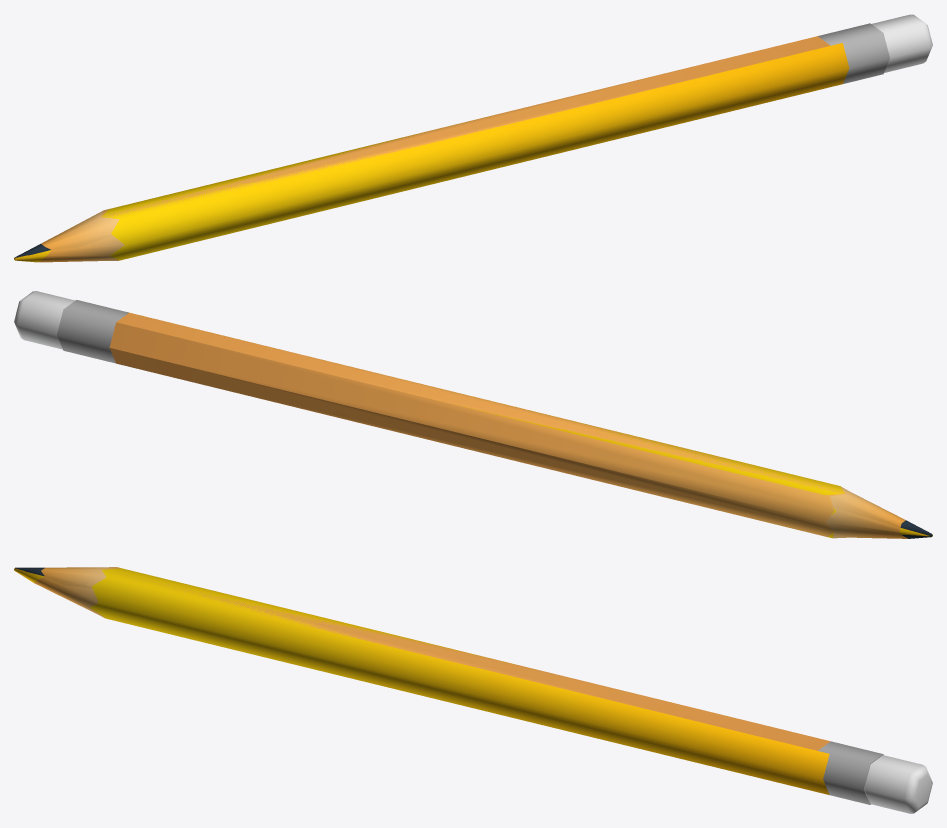
Rendered from Pencil.fbx.
3 renders of one model, top to bottom at view 1: azimuth 30°, elevation 25°; view 2: azimuth 150°, elevation 25°; view 3: azimuth 330°, elevation 25°, orthographic.
Visible parts, largest first — view 1: Pencil1, Pencil; view 2: Pencil, Pencil1; view 3: Pencil1, Pencil.
Boxes of the visible parts, bbox=[...] form: Pencil1: bbox=[14, 43, 849, 262]; Pencil: bbox=[14, 14, 932, 260]; Pencil: bbox=[14, 291, 932, 538]; Pencil1: bbox=[147, 318, 932, 538]; Pencil1: bbox=[14, 568, 829, 794]; Pencil: bbox=[15, 567, 932, 813].
Bounding box in the file's own units: 1047 × 45.52 × 52.62.
